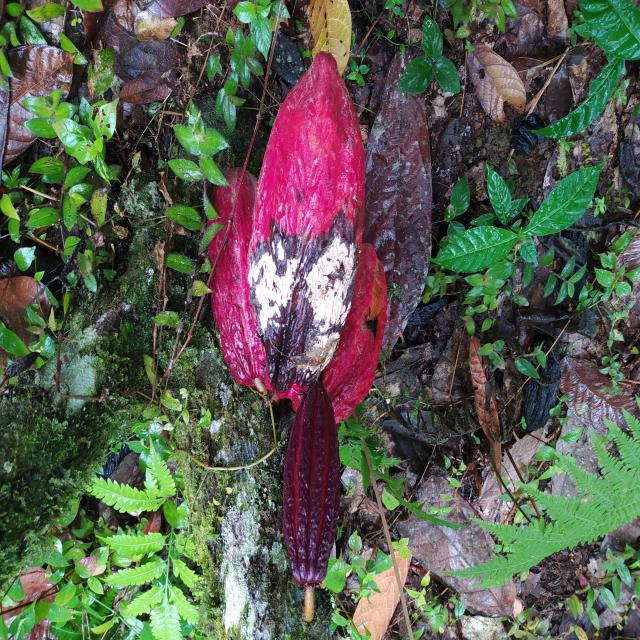Monilia: (250, 51, 364, 390)
Sana: (282, 376, 344, 593), (212, 166, 258, 394), (334, 243, 384, 420)
